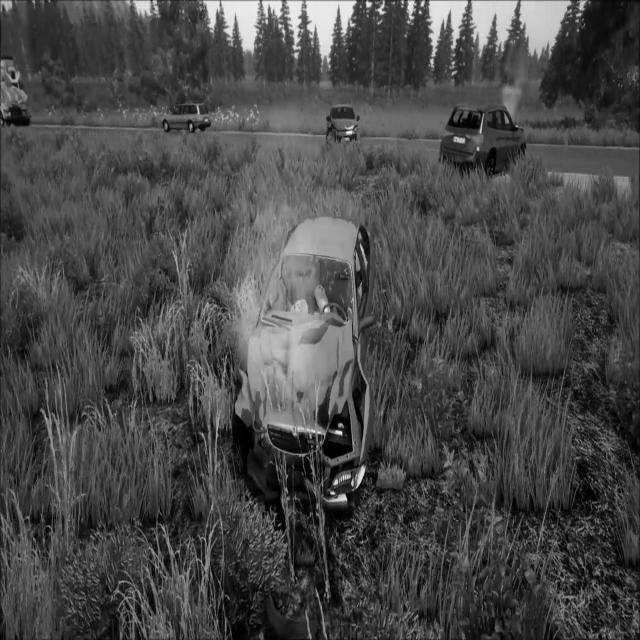accident: (226, 211, 385, 531)
vehicle: (434, 95, 532, 185), (155, 94, 209, 139), (319, 103, 366, 149)
